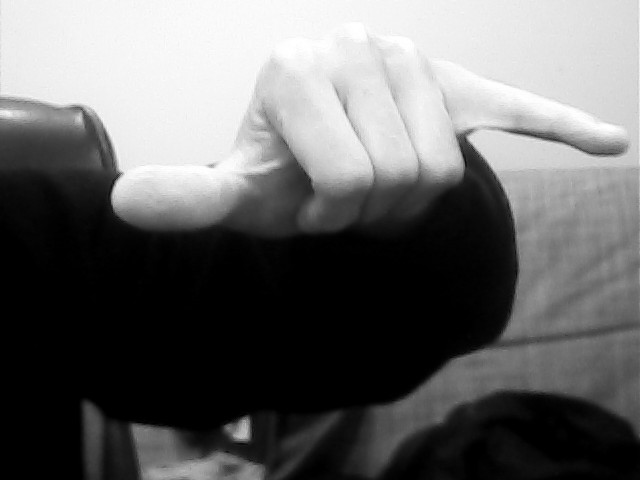aloha: (107, 19, 635, 250)
